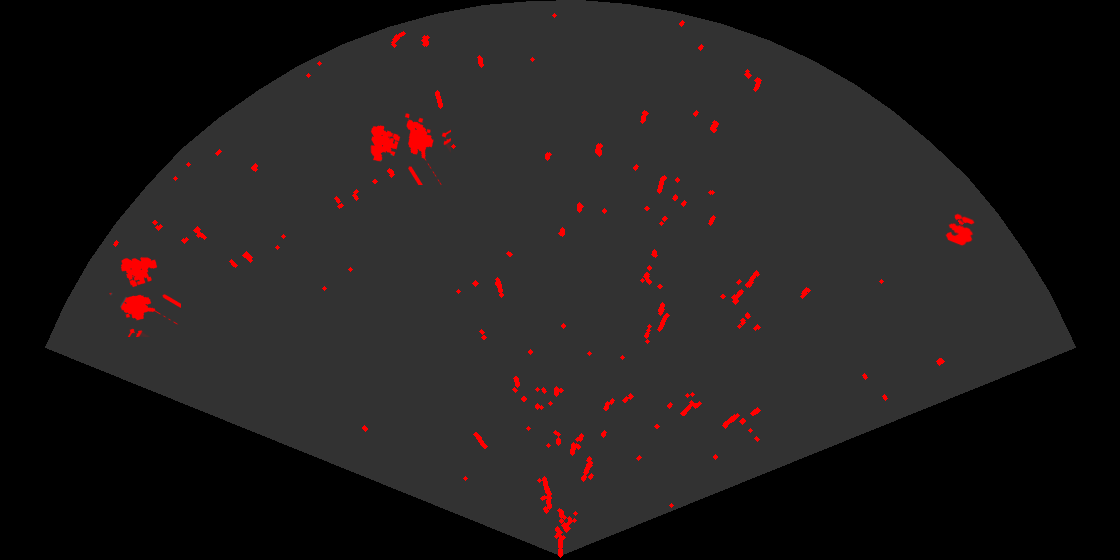ball: (944, 212, 976, 247)
cage: (108, 255, 181, 337), (369, 112, 451, 185)
